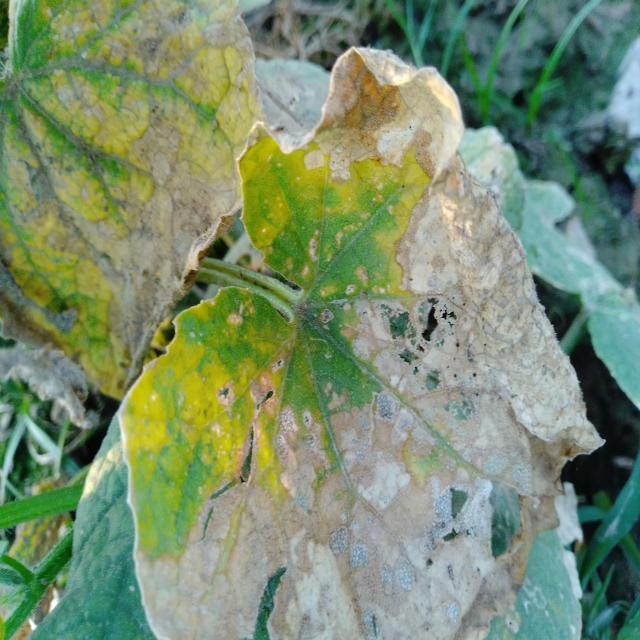cucumber_gummy: (116, 43, 615, 640), (0, 0, 272, 438)
